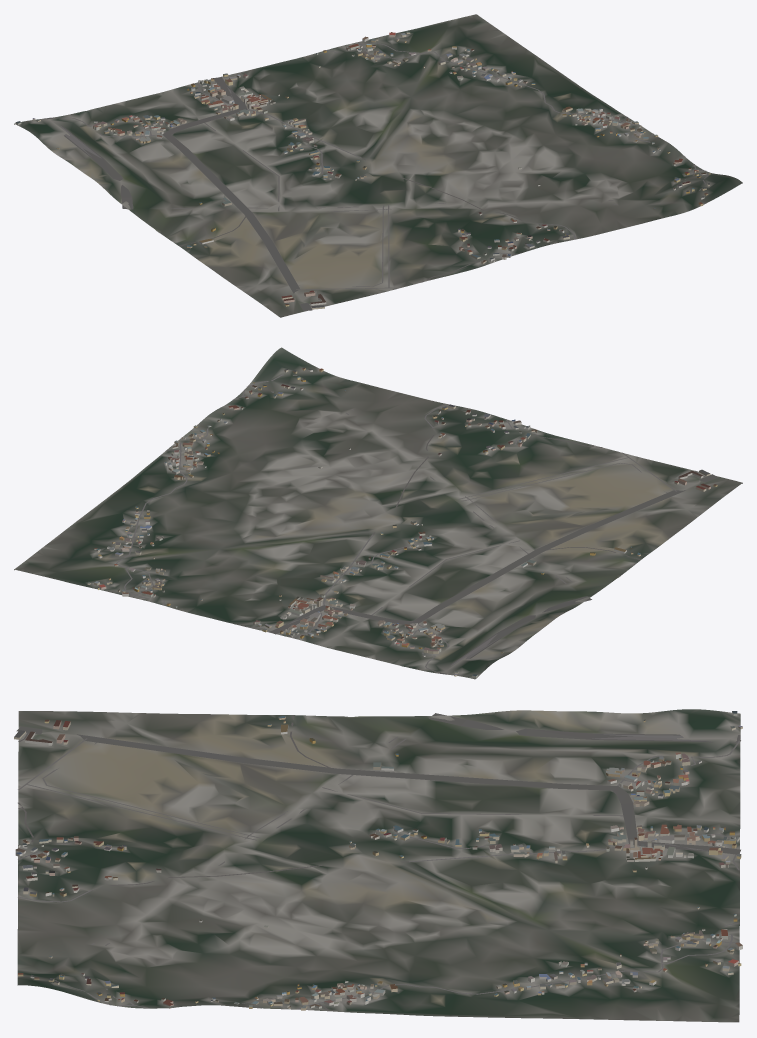
The picture shows the model from 3 angles, top to bottom: view 1: azimuth 30°, elevation 25°; view 2: azimuth 150°, elevation 25°; view 3: azimuth 270°, elevation 25°; orthographic projection. The views are drawn at different scales.
Parts seen in each view (by area): view 1: ground, buildings, roads; view 2: ground, buildings, roads; view 3: ground, buildings, roads.
Boxes of the visible parts, x1,y1,x2,y2 form: ground: (14, 14, 742, 317); buildings: (15, 31, 710, 309); roads: (43, 42, 708, 310); ground: (14, 347, 742, 679); buildings: (87, 368, 717, 678); roads: (116, 374, 717, 674); ground: (17, 709, 740, 1022); buildings: (14, 711, 742, 1010); roads: (16, 713, 740, 1011).
Size of the model in its own units: 1414 by 87.27 by 1416.
